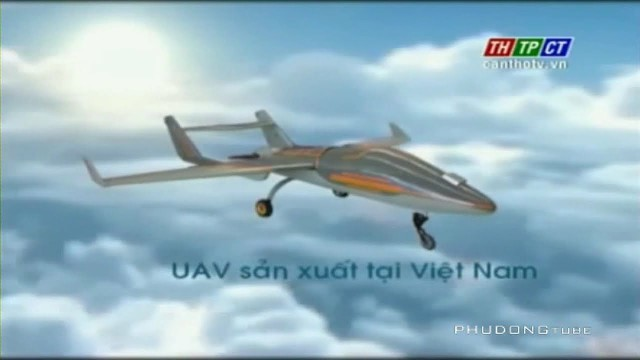maybay_khongnguoilai: (79, 103, 495, 237)
